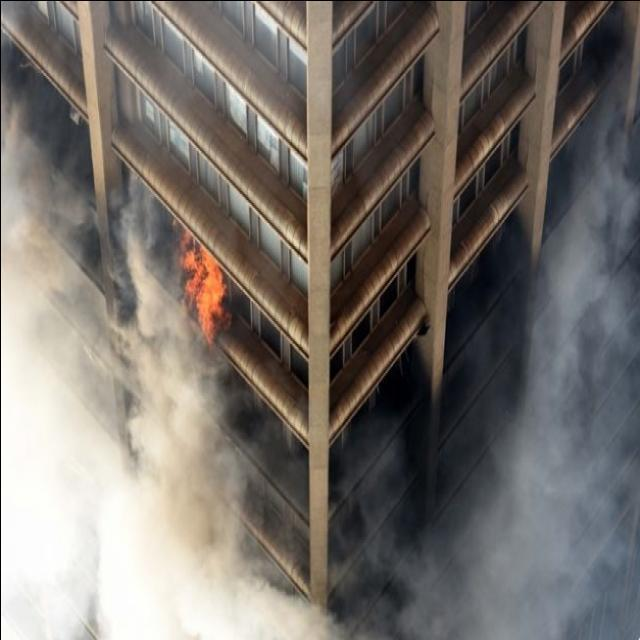Fire: (144, 186, 240, 358)
